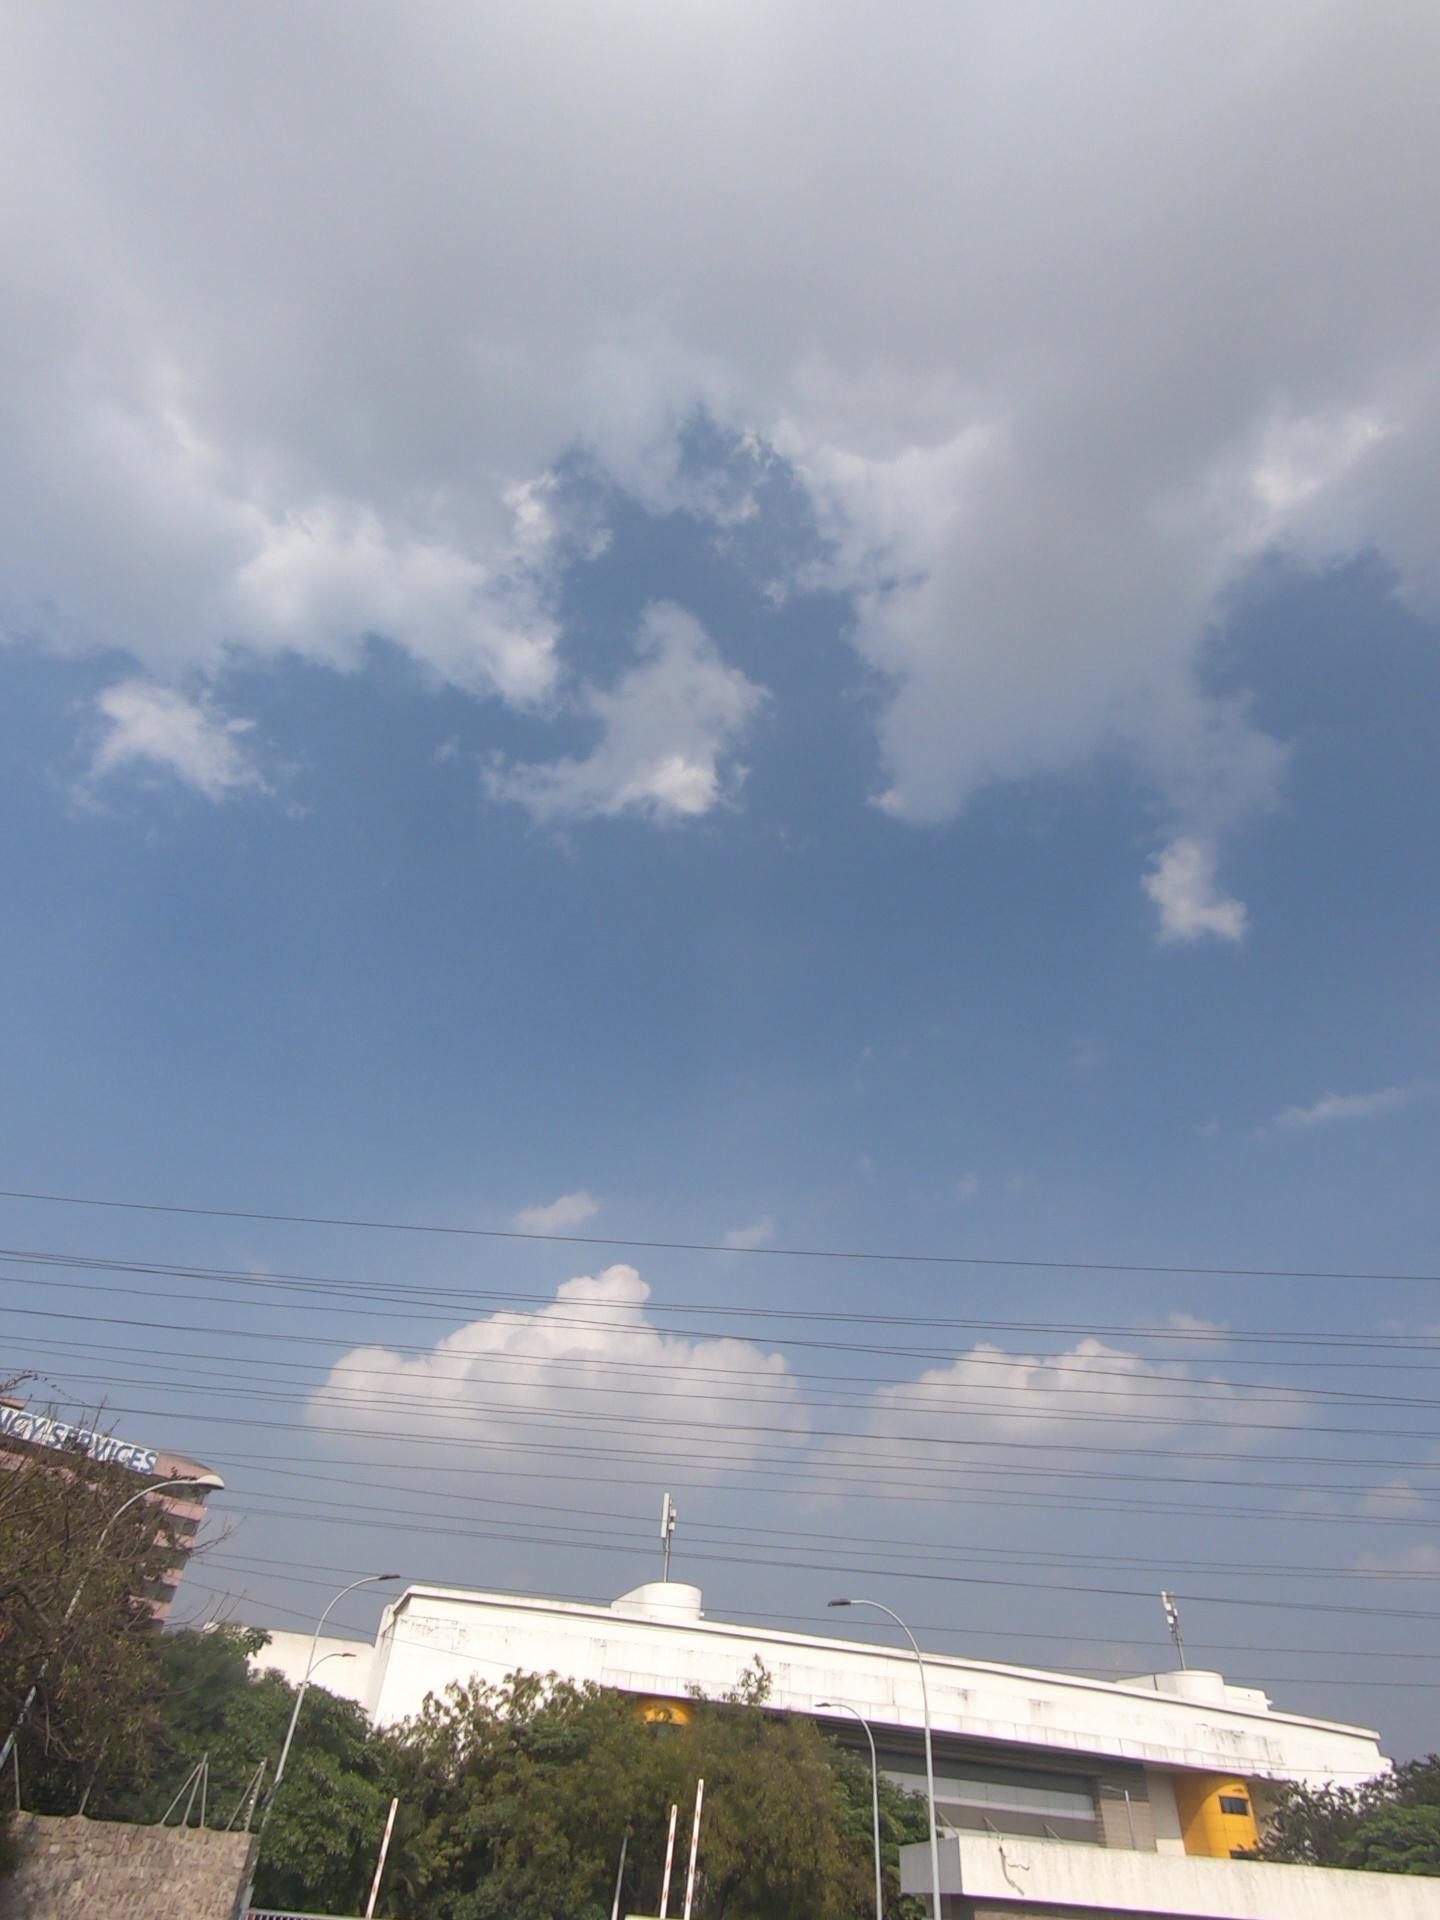off: (839, 1705, 1015, 1900)
